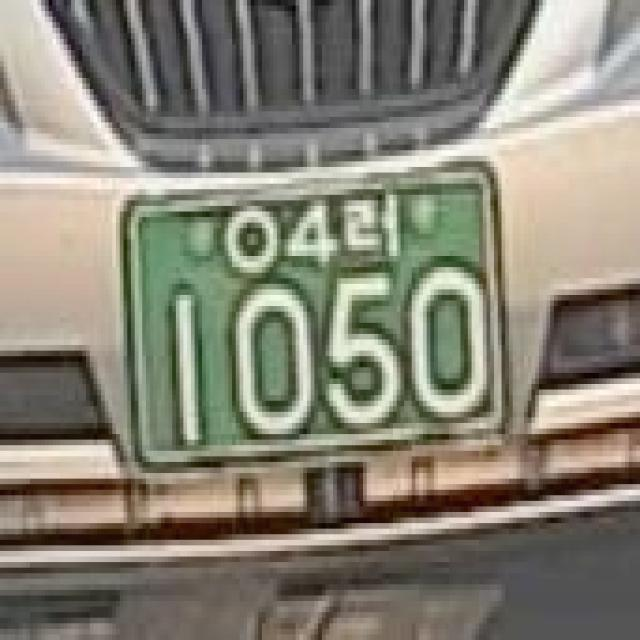illegal_plate: (100, 141, 531, 508)
